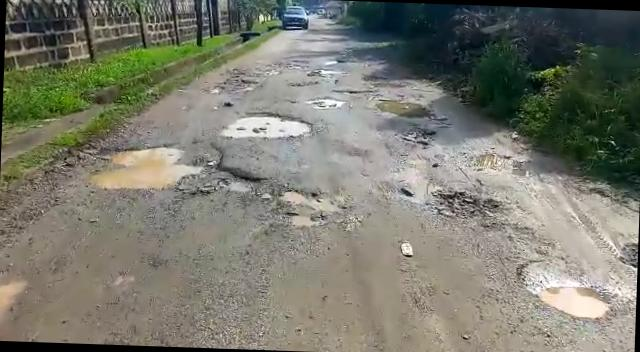pothole: (80, 138, 222, 195), (529, 279, 614, 320), (427, 188, 513, 226), (218, 110, 316, 142), (275, 188, 349, 227), (470, 150, 530, 174), (375, 97, 436, 119), (394, 123, 438, 144), (308, 96, 351, 110), (330, 86, 380, 96)
